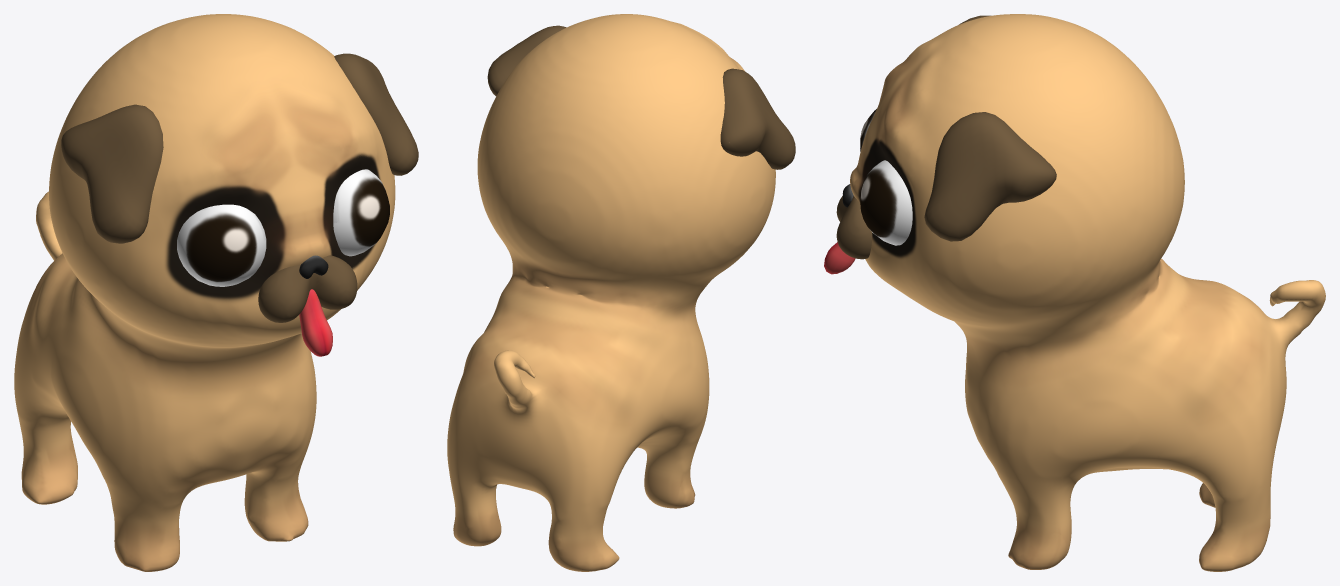
The model's file is dog.glb.
The picture shows the model from 3 angles, left to right: view 1: azimuth 30°, elevation 25°; view 2: azimuth 150°, elevation 25°; view 3: azimuth 270°, elevation 25°; orthographic projection. The views are drawn at different scales.
Parts seen in each view (by area): view 1: NurbsPath, Cube.003, Sphere.001, Cube.001, Cube.002; view 2: NurbsPath, Cube.003; view 3: NurbsPath, Cube.003, Sphere.001, Cube.001, Cube.002.
Boxes of the visible parts, x1,y1,x2,y2 form: NurbsPath: (14, 14, 395, 571); Cube.003: (61, 53, 418, 243); Sphere.001: (177, 169, 389, 286); Cube.001: (258, 255, 357, 322); Cube.002: (299, 289, 332, 356); NurbsPath: (447, 14, 775, 571); Cube.003: (487, 25, 795, 169); NurbsPath: (850, 14, 1325, 571); Cube.003: (924, 15, 1056, 241); Sphere.001: (860, 109, 912, 245); Cube.001: (836, 195, 872, 259); Cube.002: (824, 242, 855, 274).
Bounding box in the file's own units: 0.5403 × 0.8601 × 0.7736.
4 materials, 4 textured.
